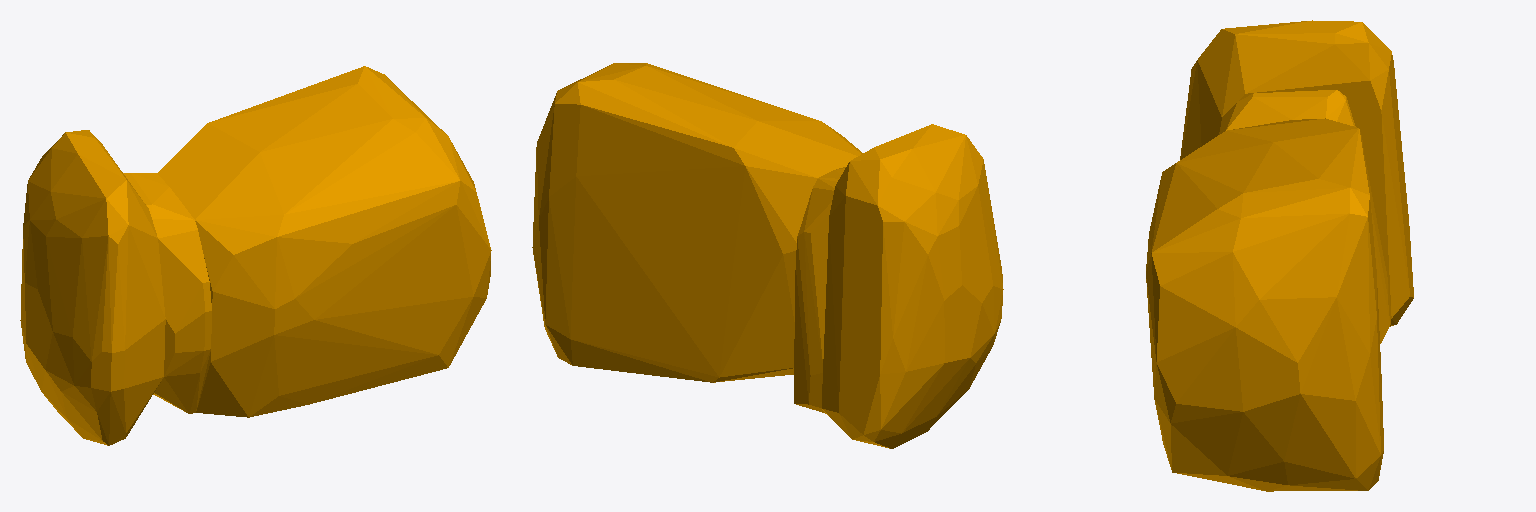
The robot description file, URDF, robot "mesh":
<robot name="mesh">
	<link name="link1">
		<collision>
			<origin xyz="0 0 0" rpy="-1.5482452248555194 0.0 -1.649976254201296" />
			<geometry>
				<mesh filename="mesh.stl"/>
			</geometry>
		</collision>

		<visual>
			<origin xyz="0 0 0" rpy="-1.5482452248555194 0.0 -1.649976254201296" />
			<geometry>
				<mesh filename="mesh.stl"/>
			</geometry>
		</visual>

		<inertial>
			<origin xyz="0 0 0" rpy="0 0 0" />
			<inertia ixx="5.6512e-06" ixy="0.0" ixz="-0.0" iyy="5.0595e-06" iyz="-0.0" izz="1.9871e-06" />
			<mass value="0.023170381200848692" />
		</inertial>
	</link>
</robot>

--- Facts derived from the render (not from the file) ---
The picture shows the robot from 3 angles, left to right: view 1: azimuth 30°, elevation 25°; view 2: azimuth 150°, elevation 25°; view 3: azimuth 270°, elevation 25°; orthographic projection.
Robot: mesh — 1 links, 0 joints (none); root link link1; default pose: every joint at zero.
Visible links, largest first — view 1: link1; view 2: link1; view 3: link1.
Link boxes in pixels (left/top/right/bottom): link1: left=20, top=66, right=491, bottom=445; link1: left=532, top=63, right=1003, bottom=448; link1: left=1146, top=20, right=1413, bottom=491.
Bounding box of the posed robot: 0.0504 × 0.0249 × 0.0327 m (x, y, z).
Meshes: 1 distinct files referenced, 1 mesh visuals loaded (1 ASCII STL).